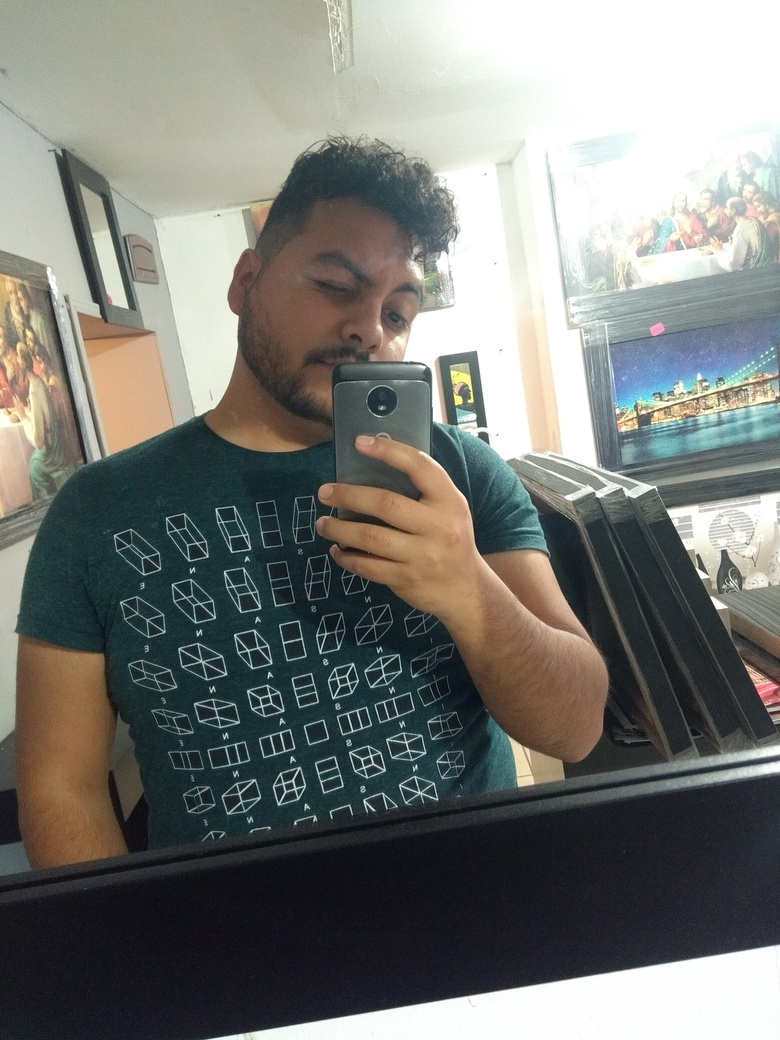Yoshi: (239, 120, 473, 444)
